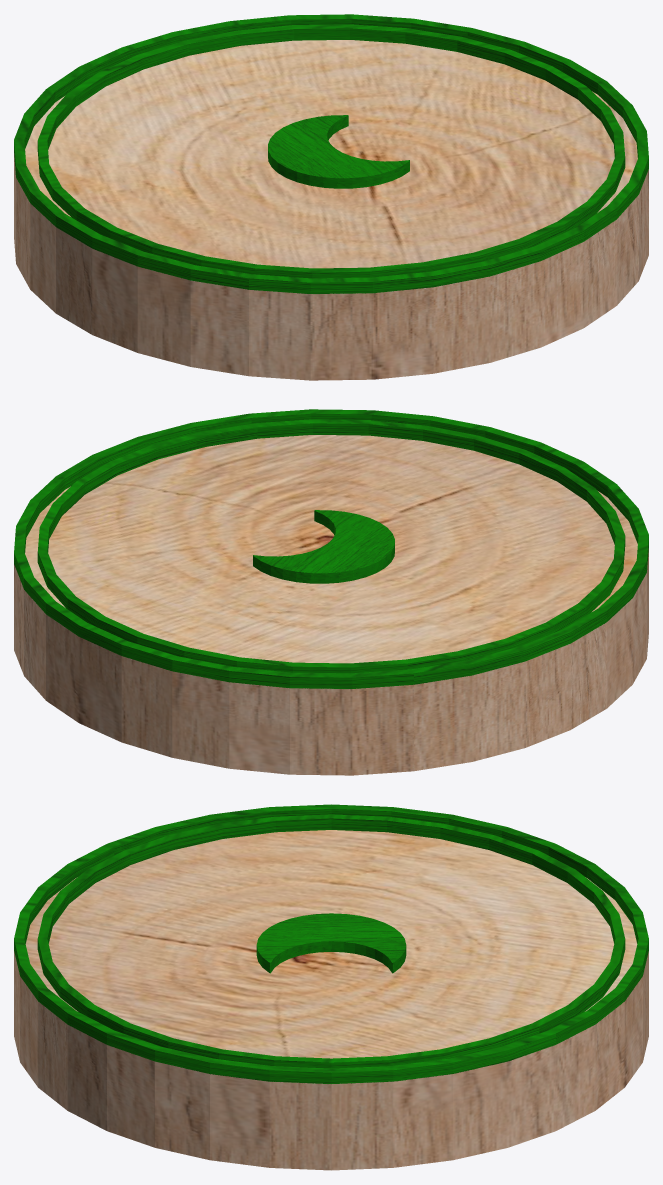
Rendered from Mondstein1.fbx.
3 renders of one model, top to bottom at view 1: azimuth 30°, elevation 25°; view 2: azimuth 150°, elevation 25°; view 3: azimuth 270°, elevation 25°, orthographic.
Parts seen in each view (by area): view 1: Mond1; view 2: Mond1; view 3: Mond1.
Boxes of the visible parts, x1,y1,x2,y2 form: Mond1: (14,14,648,380); Mond1: (14,409,648,775); Mond1: (14,804,648,1170).
Bounding box in the file's own units: 200 × 34 × 200.
